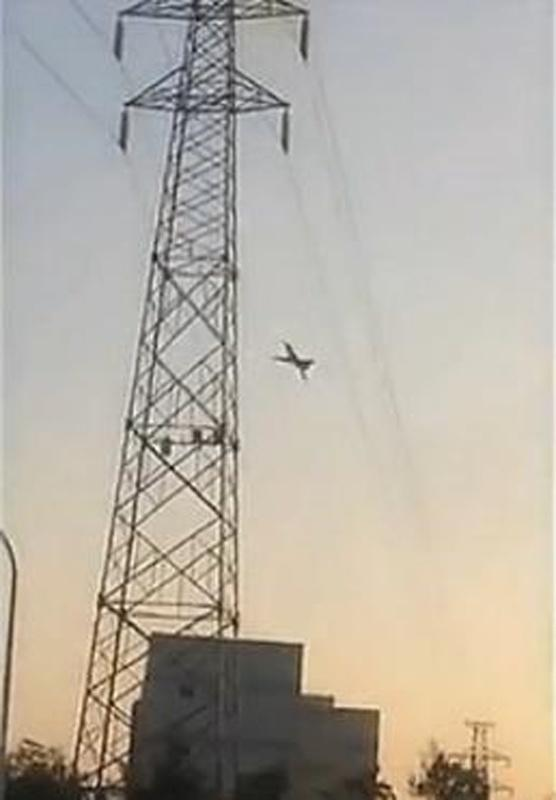power_tower: (80, 5, 312, 784)
